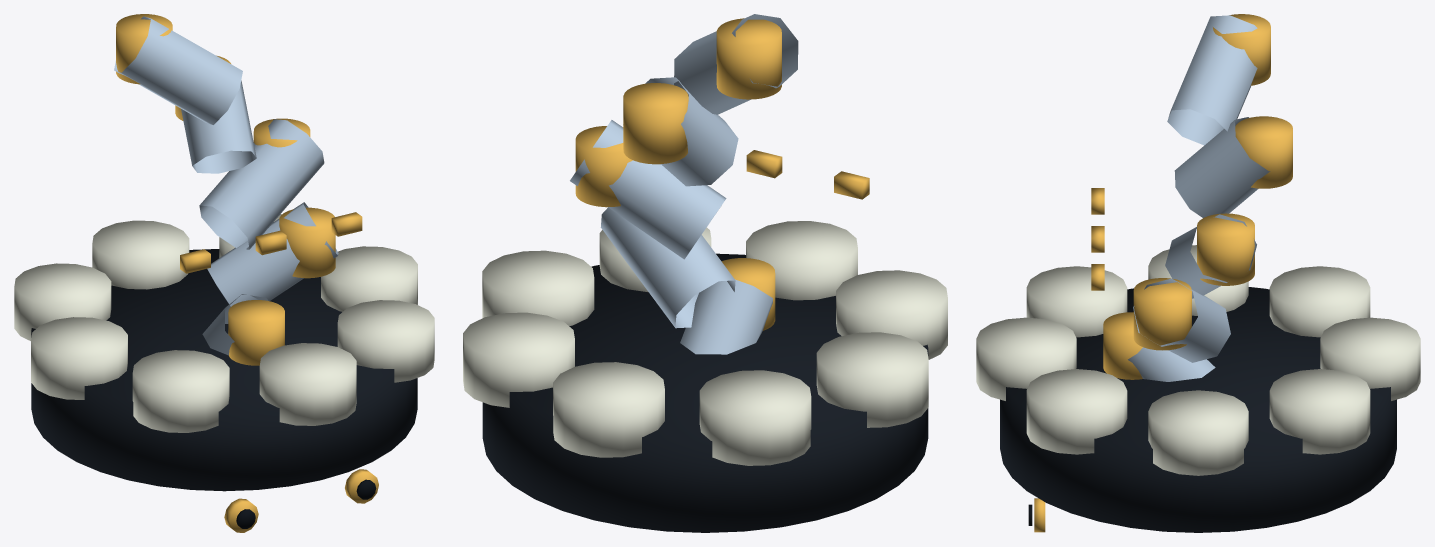
File: 77_L93_SampleTransferCarousel.fbx
3 views of the same model, side by side, from view 1: azimuth 30°, elevation 25°; view 2: azimuth 150°, elevation 25°; view 3: azimuth 270°, elevation 25° (orthographic). The views are drawn at different scales.
Visible parts, largest first — view 1: L92_SampleTransferCarousel_Part_0003, L92_SampleTransferCarousel_Part_0000, L92_SampleTransferCarousel_Part_0001, L92_SampleTransferCarousel_Part_0002, L92_SampleTransferCarousel_Part_0004, L92_SampleTransferCarousel_Part_0007, L92_SampleTransferCarousel_Part_0005; view 2: L92_SampleTransferCarousel_Part_0003, L92_SampleTransferCarousel_Part_0000, L92_SampleTransferCarousel_Part_0001, L92_SampleTransferCarousel_Part_0002, L92_SampleTransferCarousel_Part_0004; view 3: L92_SampleTransferCarousel_Part_0003, L92_SampleTransferCarousel_Part_0000, L92_SampleTransferCarousel_Part_0001, L92_SampleTransferCarousel_Part_0002, L92_SampleTransferCarousel_Part_0004.
Boxes of the visible parts, left/top/right/bottom form: L92_SampleTransferCarousel_Part_0003: left=14, top=214, right=434, bottom=432; L92_SampleTransferCarousel_Part_0000: left=31, top=249, right=417, bottom=491; L92_SampleTransferCarousel_Part_0001: left=114, top=16, right=338, bottom=355; L92_SampleTransferCarousel_Part_0002: left=116, top=14, right=335, bottom=365; L92_SampleTransferCarousel_Part_0004: left=180, top=212, right=362, bottom=273; L92_SampleTransferCarousel_Part_0007: left=345, top=469, right=378, bottom=503; L92_SampleTransferCarousel_Part_0005: left=224, top=498, right=258, bottom=532; L92_SampleTransferCarousel_Part_0003: left=463, top=221, right=947, bottom=465; L92_SampleTransferCarousel_Part_0000: left=482, top=253, right=928, bottom=532; L92_SampleTransferCarousel_Part_0001: left=570, top=14, right=798, bottom=354; L92_SampleTransferCarousel_Part_0002: left=575, top=18, right=781, bottom=330; L92_SampleTransferCarousel_Part_0004: left=746, top=150, right=869, bottom=199; L92_SampleTransferCarousel_Part_0003: left=976, top=245, right=1420, bottom=475; L92_SampleTransferCarousel_Part_0000: left=1000, top=287, right=1396, bottom=532; L92_SampleTransferCarousel_Part_0001: left=1128, top=15, right=1270, bottom=381; L92_SampleTransferCarousel_Part_0002: left=1103, top=14, right=1292, bottom=379; L92_SampleTransferCarousel_Part_0004: left=1091, top=188, right=1104, bottom=290.
Size of the model in its own units: 168 by 190 by 168.
